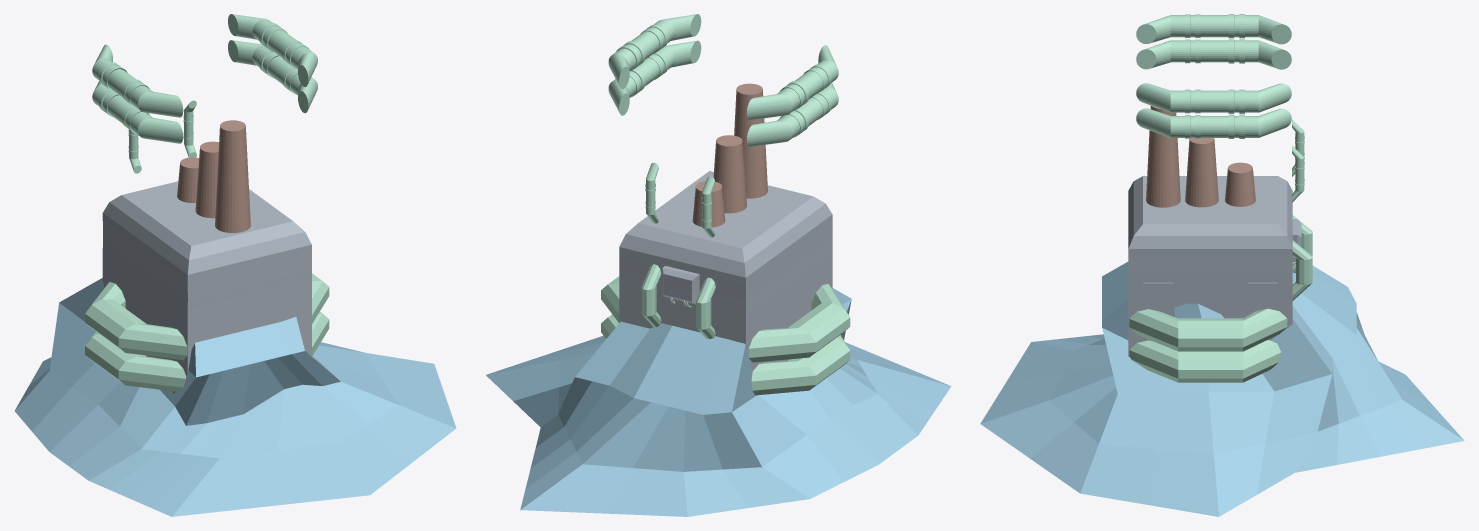
File: icebergIndustria8.fbx
3 renders of one model, left to right at view 1: azimuth 30°, elevation 25°; view 2: azimuth 150°, elevation 25°; view 3: azimuth 270°, elevation 25°, orthographic. The views are drawn at different scales.
Visible parts, largest first — view 1: Cube, Cube.001, Cylinder.001, Cylinder.008, Cylinder, Cylinder.007, Cylinder.004, Cylinder.005, Cylinder.002, Cylinder.006; view 2: Cube, Cube.001, Cylinder.001, Cylinder, Cylinder.008, Cylinder.007, Cylinder.004, Cylinder.005, Cylinder.009, Cylinder.002, Cylinder.006; view 3: Cube, Cube.001, Cylinder.001, Cylinder, Cylinder.008, Cylinder.007, Cylinder.004, Cylinder.005, Cylinder.006, Cylinder.009, Cylinder.002.
Part boxes in pixels (bbox=[...]): Cube: bbox=[14, 278, 456, 516]; Cube.001: bbox=[102, 181, 311, 393]; Cylinder.001: bbox=[92, 14, 317, 117]; Cylinder.008: bbox=[85, 273, 329, 360]; Cylinder: bbox=[92, 40, 317, 143]; Cylinder.007: bbox=[85, 312, 329, 391]; Cylinder.004: bbox=[215, 120, 250, 232]; Cylinder.005: bbox=[195, 141, 218, 218]; Cylinder.002: bbox=[128, 100, 196, 173]; Cylinder.006: bbox=[177, 157, 199, 202]; Cube: bbox=[486, 288, 951, 516]; Cube.001: bbox=[619, 171, 832, 371]; Cylinder.001: bbox=[608, 14, 838, 120]; Cylinder: bbox=[608, 40, 838, 146]; Cylinder.008: bbox=[601, 276, 850, 362]; Cylinder.007: bbox=[601, 314, 850, 395]; Cylinder.004: bbox=[734, 83, 767, 198]; Cylinder.005: bbox=[713, 135, 746, 213]; Cylinder.009: bbox=[641, 264, 715, 339]; Cylinder.002: bbox=[645, 162, 715, 237]; Cylinder.006: bbox=[692, 181, 725, 227]; Cube: bbox=[980, 262, 1464, 516]; Cube.001: bbox=[1128, 176, 1301, 356]; Cylinder.001: bbox=[1136, 14, 1291, 113]; Cylinder: bbox=[1136, 39, 1291, 138]; Cylinder.008: bbox=[1129, 308, 1287, 351]; Cylinder.007: bbox=[1129, 340, 1281, 382]; Cylinder.004: bbox=[1146, 105, 1180, 207]; Cylinder.005: bbox=[1185, 138, 1218, 207]; Cylinder.006: bbox=[1225, 162, 1255, 206]; Cylinder.009: bbox=[1292, 215, 1312, 300]; Cylinder.002: bbox=[1292, 119, 1304, 202].
Bounding box in the file's own units: 360 × 328 × 406.
